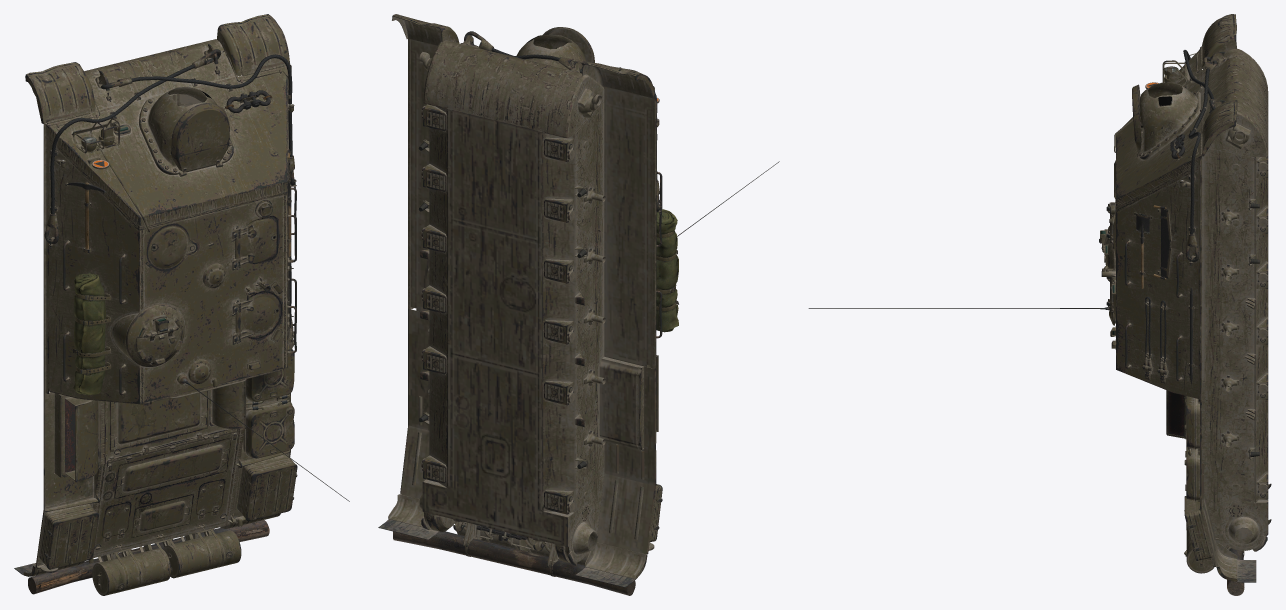
Rendered from Hull.glb.
3 views of the same model, side by side, from view 1: azimuth 30°, elevation 25°; view 2: azimuth 150°, elevation 25°; view 3: azimuth 270°, elevation 25° (orthographic). The views are drawn at different scales.
Parts seen in each view (by area): view 1: set_0_group_0, set_0_group_1; view 2: set_0_group_0, set_0_group_1; view 3: set_0_group_0, set_0_group_1.
Boxes of the visible parts, x1=… form: set_0_group_0: x1=14, y1=14, x2=349, y2=595; set_0_group_1: x1=28, y1=149, x2=291, y2=594; set_0_group_0: x1=378, y1=14, x2=779, y2=587; set_0_group_1: x1=393, y1=127, x2=678, y2=595; set_0_group_0: x1=808, y1=14, x2=1271, y2=582; set_0_group_1: x1=1134, y1=205, x2=1244, y2=595.
Bounding box in the file's own units: 3.43 × 6.88 × 6.05.
Materials: 2 (2 with a texture image).
